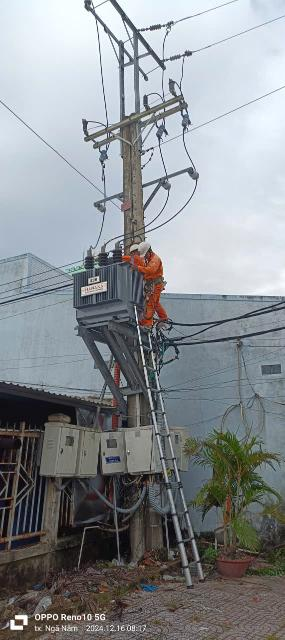gloves: (129, 260, 143, 281)
harness: (140, 273, 172, 289)
helmet: (117, 235, 141, 256), (137, 236, 158, 255)
